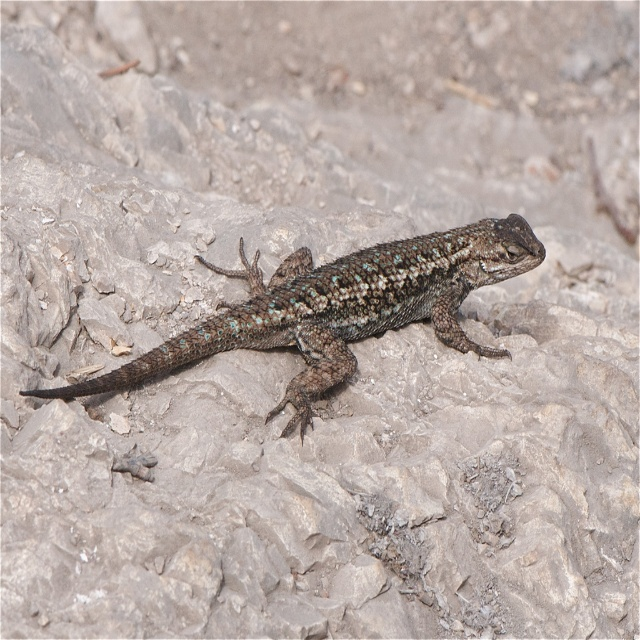Lizard: (18, 211, 546, 445)
